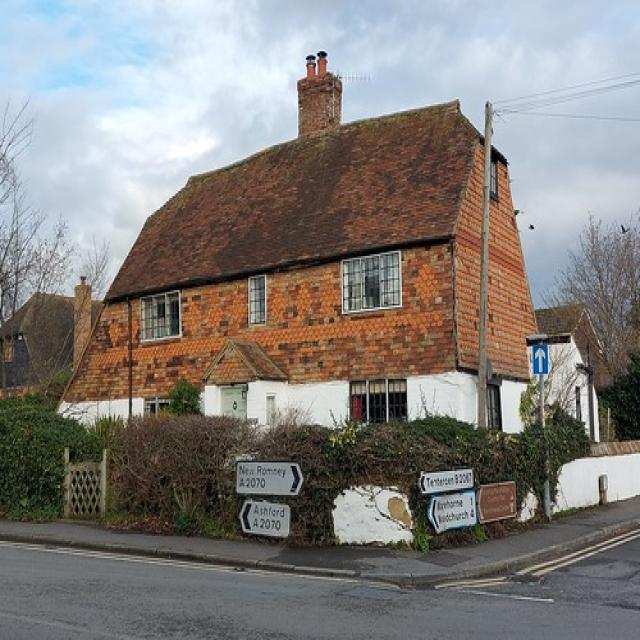building: (53, 59, 540, 550)
